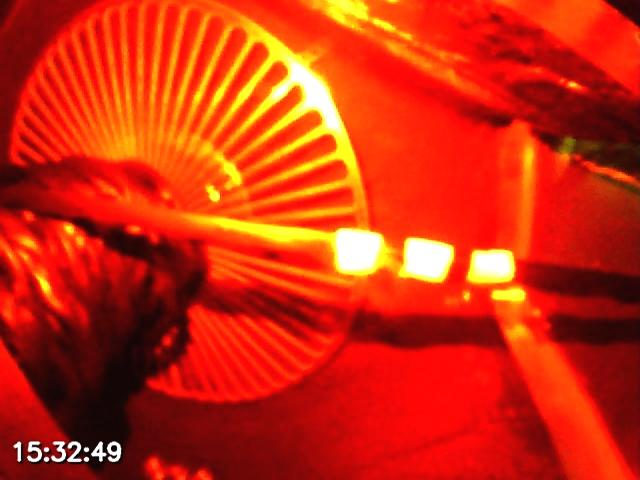white-dots: (333, 226, 516, 285)
